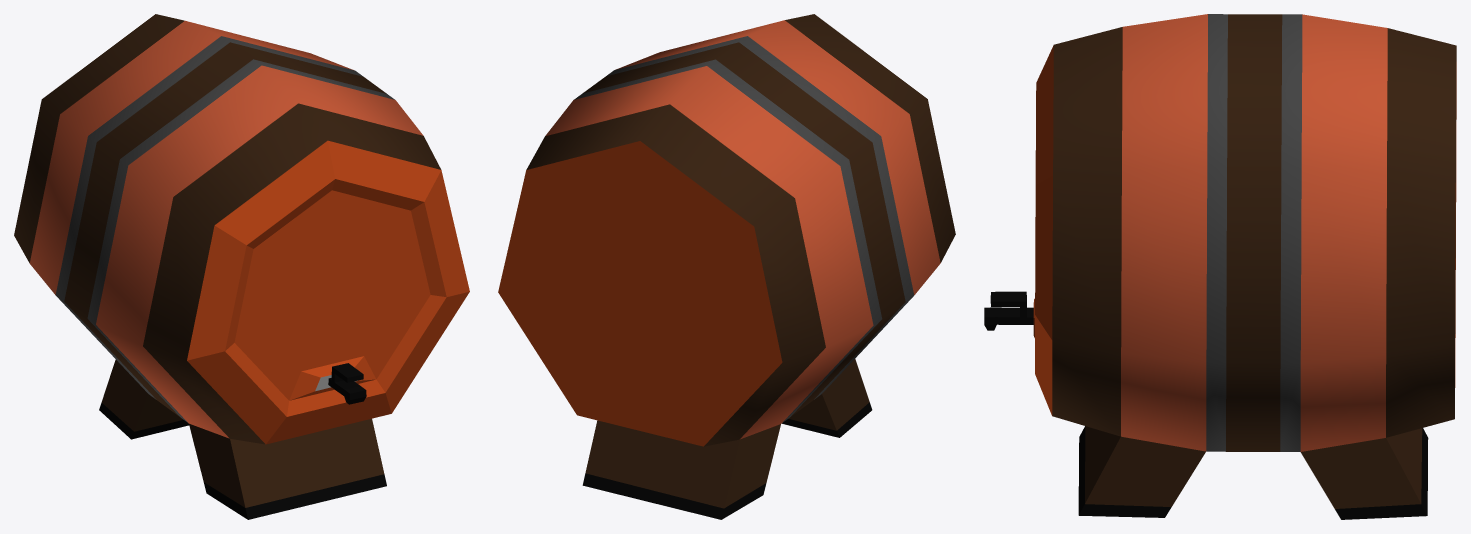
The model's file is barrilunico.FBX.
3 renders of one model, left to right at view 1: azimuth 30°, elevation 25°; view 2: azimuth 150°, elevation 25°; view 3: azimuth 270°, elevation 25°, orthographic. The views are drawn at different scales.
Visible parts, largest first — view 1: Cylinder002; view 2: Cylinder002; view 3: Cylinder002.
Boxes of the visible parts, x1,y1,x2,y2 form: Cylinder002: [14, 14, 469, 519]; Cylinder002: [498, 14, 955, 519]; Cylinder002: [984, 14, 1456, 519].
Bounding box in the file's own units: 324 × 371 × 342.
